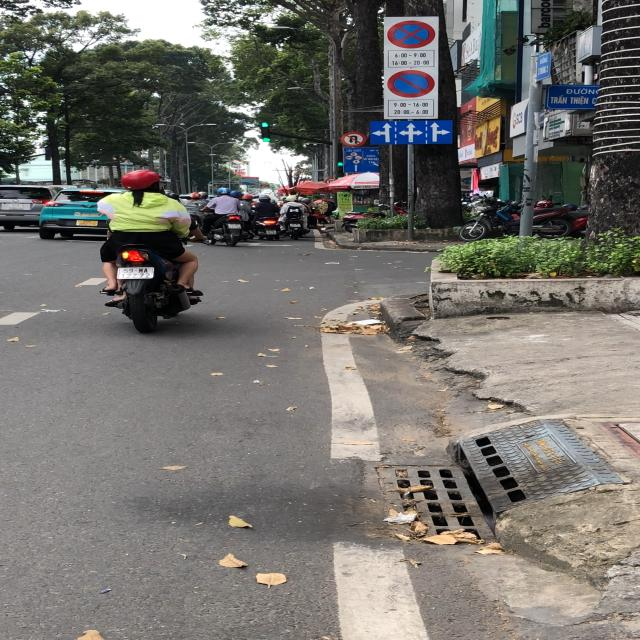Bien bao cam do xe: (389, 69, 439, 98)
Bien bao cam dung xe va do xe: (380, 18, 443, 48)
Bien bao cam quay dau xe: (339, 129, 369, 148)
